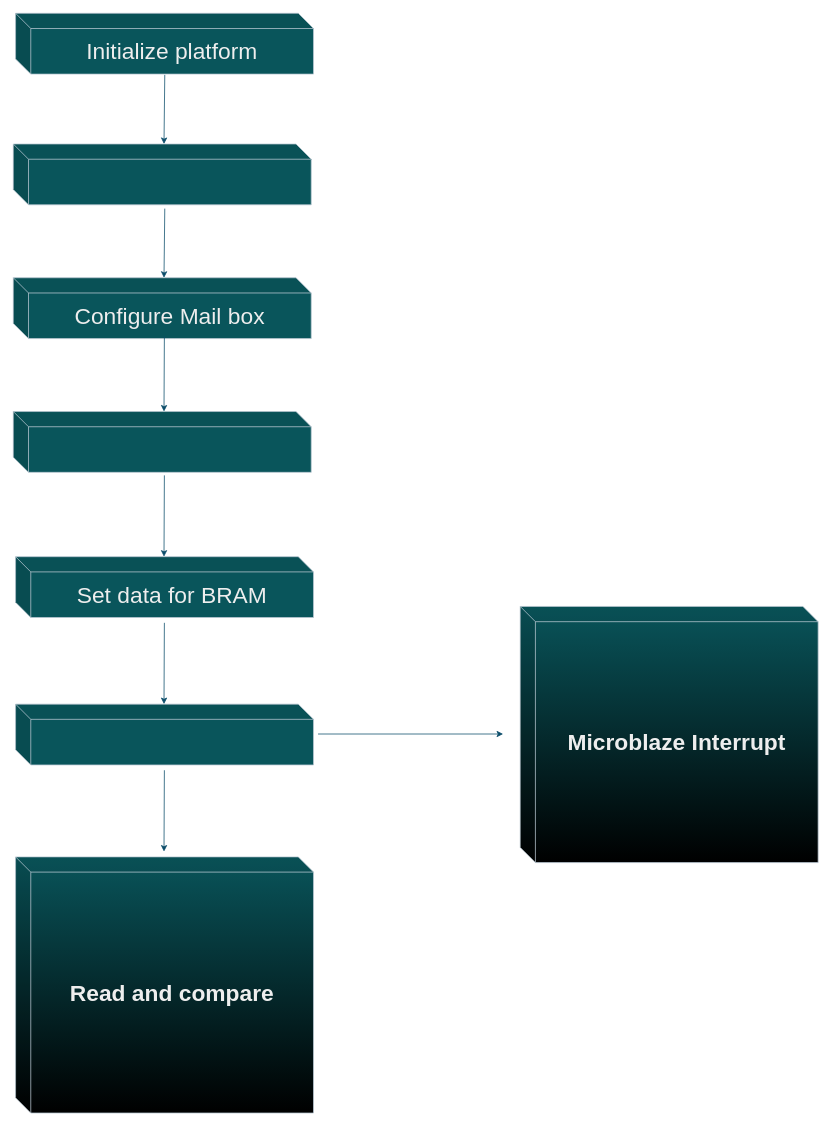
Image size: 831x1126. Some labels were removed from this diagram. Here are the shapes that lost their labels. From the top down, the centre of each, then its label:
point 162,174: Configure GPIO
point 162,441: Configure Mutex
point 164,734: Send data to mail box
